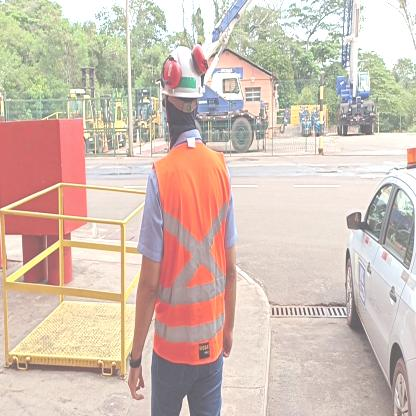Balaclava: (166, 96, 200, 141)
Capacete: (162, 44, 207, 102)
colete: (148, 140, 228, 361)
